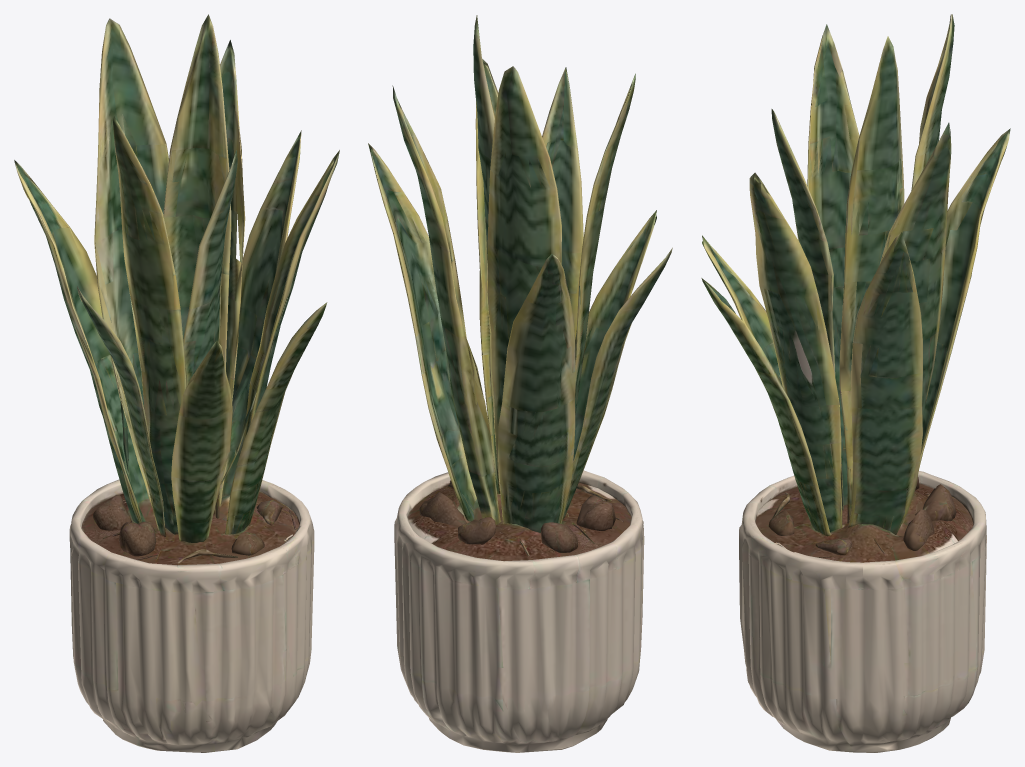
Rendered from plant_snake.glb.
The picture shows the model from 3 angles, left to right: view 1: azimuth 30°, elevation 25°; view 2: azimuth 150°, elevation 25°; view 3: azimuth 270°, elevation 25°; orthographic projection. The views are drawn at different scales.
Visible parts, largest first — view 1: prop; view 2: prop; view 3: prop.
Boxes of the visible parts, <box> form: prop: <box>14,14,339,752</box>; prop: <box>368,15,672,752</box>; prop: <box>701,14,1010,752</box>.
Bounding box in the file's own units: 0.3772 × 0.95 × 0.3825.
1 material, 1 textured.
